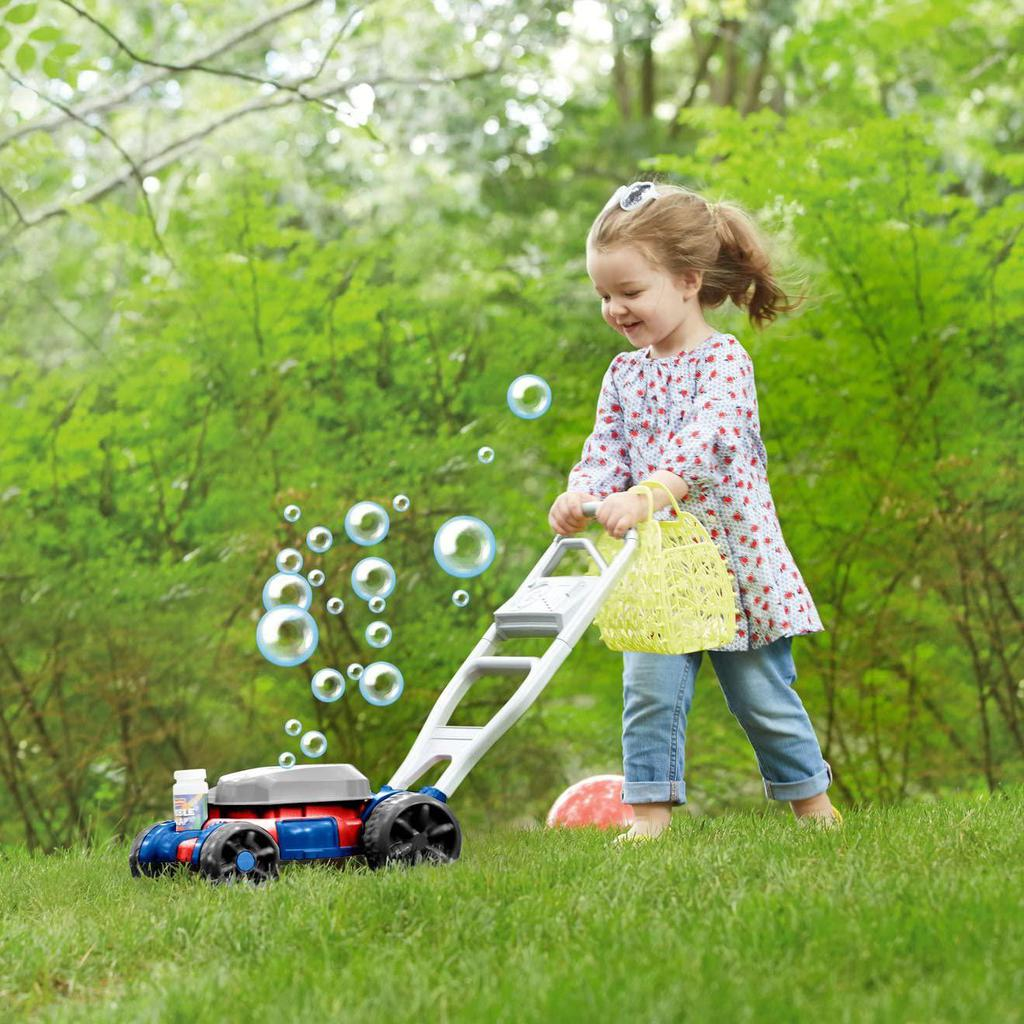child: (512, 174, 880, 842)
